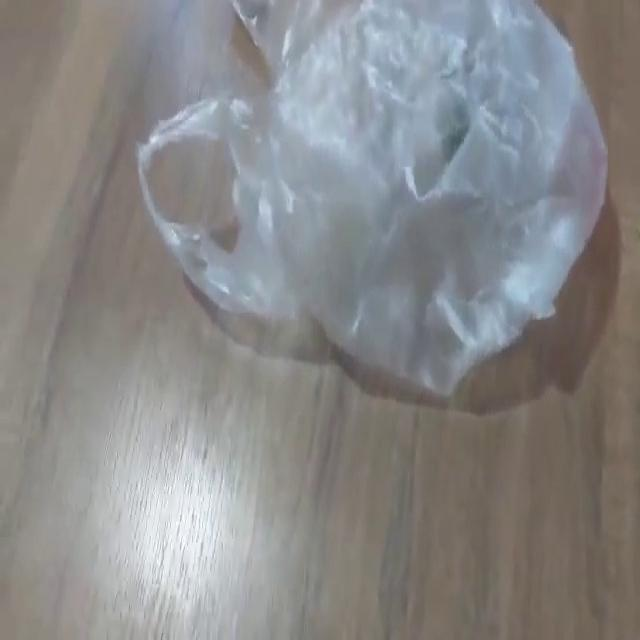Anorganik: (134, 2, 613, 403)
